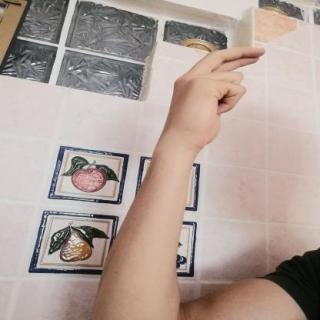ZAY: (156, 40, 272, 154)
